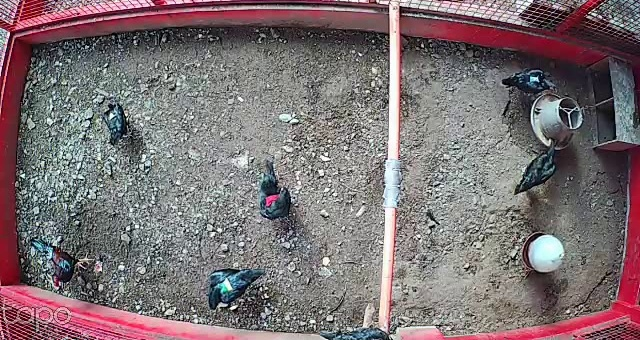Chicken: (202, 261, 268, 315), (255, 156, 300, 231), (507, 134, 558, 198), (499, 66, 559, 102), (101, 100, 137, 149), (311, 320, 392, 340)
Drinker: (519, 232, 567, 272)
Feeder: (530, 92, 585, 150)
Rooster: (30, 237, 94, 293)
Saddle_Color_Red: (265, 193, 280, 206)
Saddle_Color_YellowGreen: (219, 279, 234, 293)
